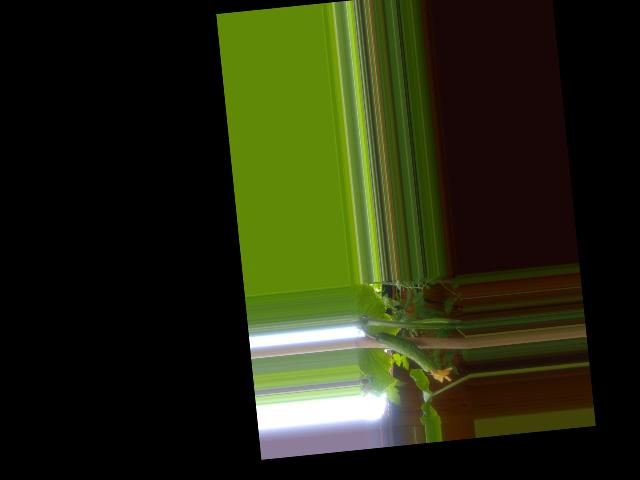cucumber: (375, 325, 454, 389)
